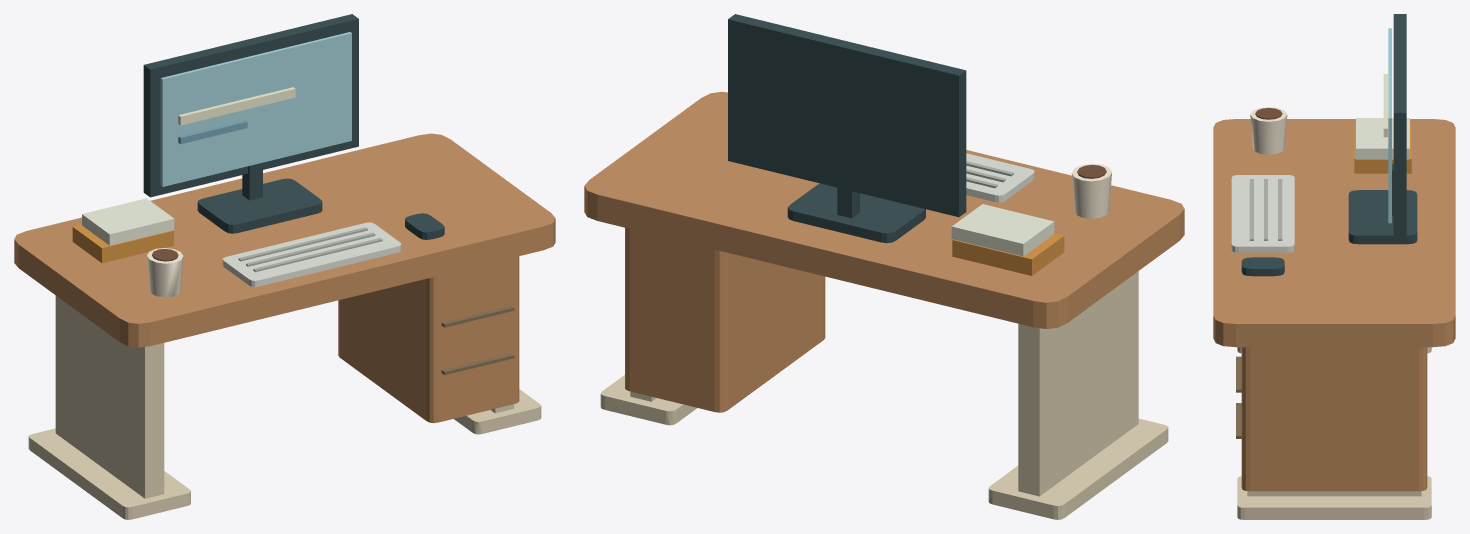
The model's file is desk-v3.glb.
The picture shows the model from 3 angles, left to right: view 1: azimuth 30°, elevation 25°; view 2: azimuth 150°, elevation 25°; view 3: azimuth 270°, elevation 25°; orthographic projection. The views are drawn at different scales.
Parts seen in each view (by area): view 1: Mesh_0, Mesh_1, Mesh_6, Mesh_5, Mesh_9, Mesh_4, Mesh_3, Mesh_10, Mesh_11, Mesh_7, Mesh_2, Mesh_8; view 2: Mesh_0, Mesh_5, Mesh_1, Mesh_4, Mesh_3, Mesh_9, Mesh_11; view 3: Mesh_0, Mesh_5, Mesh_1, Mesh_9, Mesh_4, Mesh_11, Mesh_10, Mesh_6, Mesh_3, Mesh_2, Mesh_7.
Part boxes in pixels (left/top/right/bottom): Mesh_0: left=14, top=133, right=555, bottom=423; Mesh_1: left=28, top=295, right=541, bottom=519; Mesh_6: left=160, top=32, right=351, bottom=186; Mesh_5: left=143, top=14, right=444, bottom=239; Mesh_9: left=222, top=222, right=401, bottom=286; Mesh_4: left=82, top=198, right=174, bottom=245; Mesh_3: left=72, top=224, right=173, bottom=263; Mesh_10: left=238, top=227, right=382, bottom=272; Mesh_11: left=147, top=248, right=183, bottom=297; Mesh_7: left=178, top=87, right=295, bottom=125; Mesh_2: left=441, top=305, right=514, bottom=375; Mesh_8: left=178, top=120, right=247, bottom=144; Mesh_0: left=584, top=91, right=1184, bottom=412; Mesh_5: left=728, top=14, right=966, bottom=243; Mesh_1: left=600, top=271, right=1168, bottom=519; Mesh_4: left=951, top=204, right=1054, bottom=256; Mesh_3: left=952, top=233, right=1064, bottom=275; Mesh_9: left=966, top=153, right=1034, bottom=202; Mesh_11: left=1071, top=163, right=1111, bottom=218; Mesh_0: left=1213, top=119, right=1455, bottom=491; Mesh_5: left=1241, top=14, right=1417, bottom=276; Mesh_1: left=1237, top=347, right=1431, bottom=519; Mesh_9: left=1231, top=175, right=1294, bottom=252; Mesh_4: left=1356, top=118, right=1409, bottom=159; Mesh_11: left=1250, top=107, right=1287, bottom=154; Mesh_10: left=1249, top=179, right=1282, bottom=240; Mesh_6: left=1388, top=28, right=1391, bottom=223; Mesh_3: left=1354, top=124, right=1411, bottom=173; Mesh_2: left=1236, top=356, right=1241, bottom=438; Mesh_7: left=1383, top=74, right=1387, bottom=137.
Bounding box in the file's own units: 1.6 × 1.3 × 0.8.
